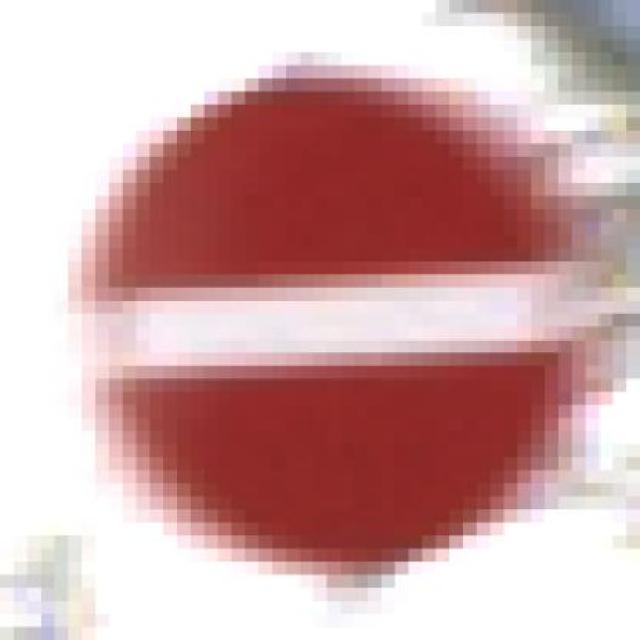No Entry: (82, 52, 600, 576)
